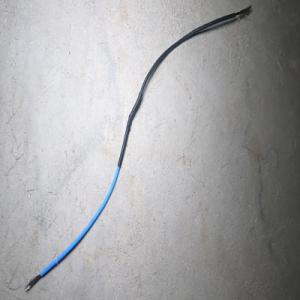Wire: (24, 4, 252, 291)
